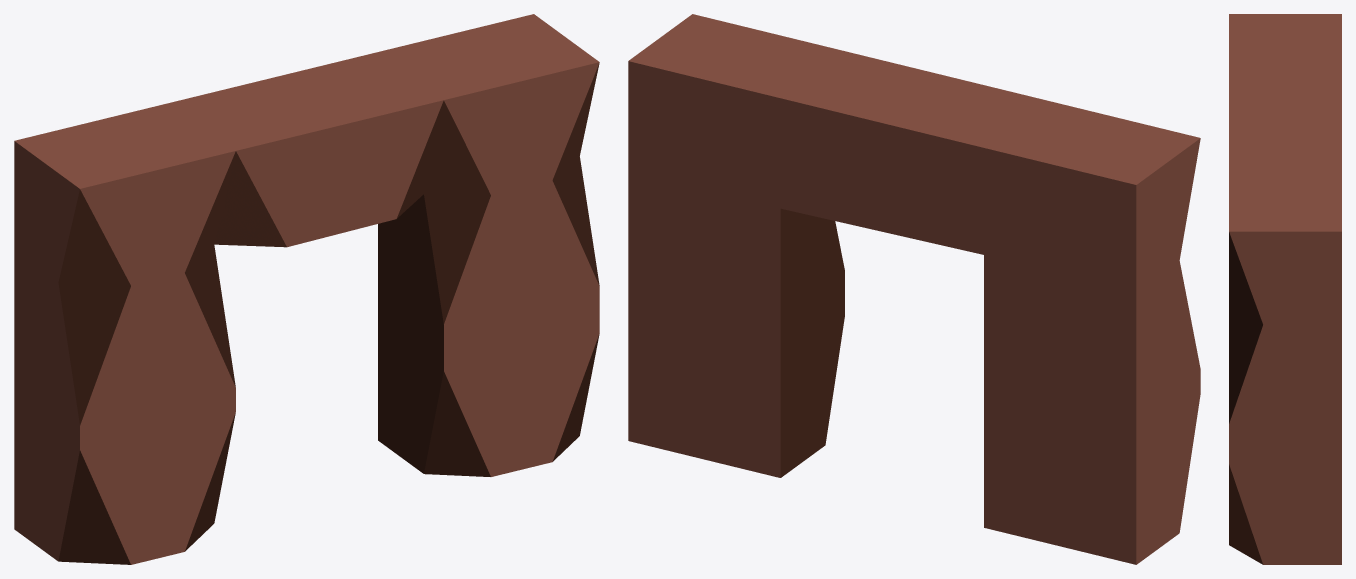
File: puertaRoca.fbx
3 views of the same model, side by side, from view 1: azimuth 30°, elevation 25°; view 2: azimuth 150°, elevation 25°; view 3: azimuth 270°, elevation 25° (orthographic). The views are drawn at different scales.
Visible parts, largest first — view 1: puerta; view 2: puerta; view 3: puerta.
Part boxes in pixels (x1,y1,x2,y2): puerta: (14, 14, 599, 564); puerta: (628, 14, 1200, 564); puerta: (1229, 14, 1341, 564).
Size of the model in its own units: 420 by 300 by 92.08.
